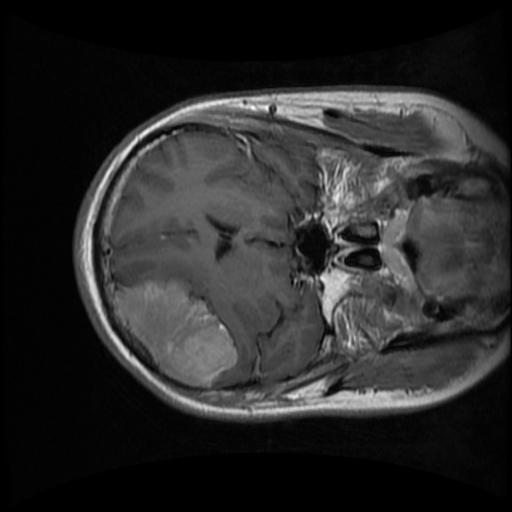meningioma: (113, 277, 237, 388)
